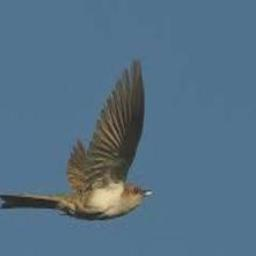Cuckoo: (0, 58, 153, 219)
